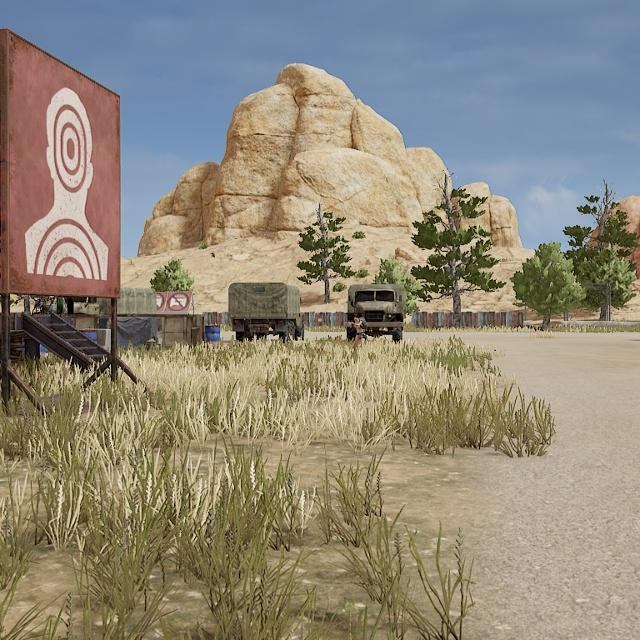head: (352, 312, 361, 323)
people: (349, 310, 367, 355)
